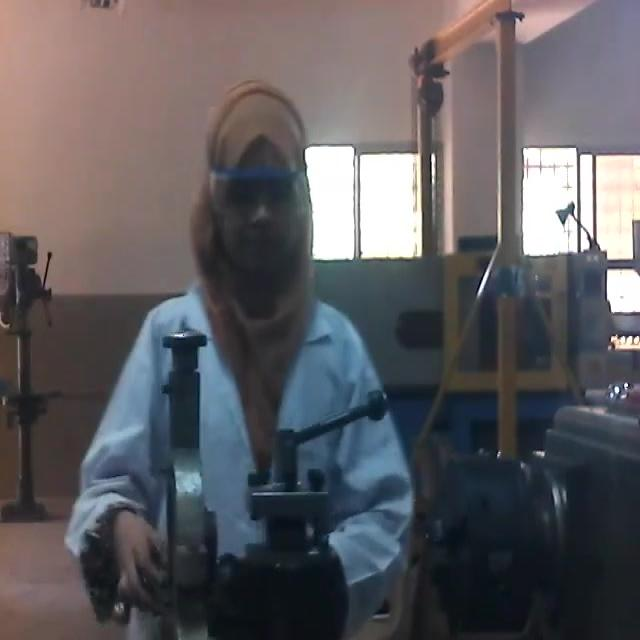googles: (193, 160, 315, 223)
labcoat: (69, 280, 415, 640)
